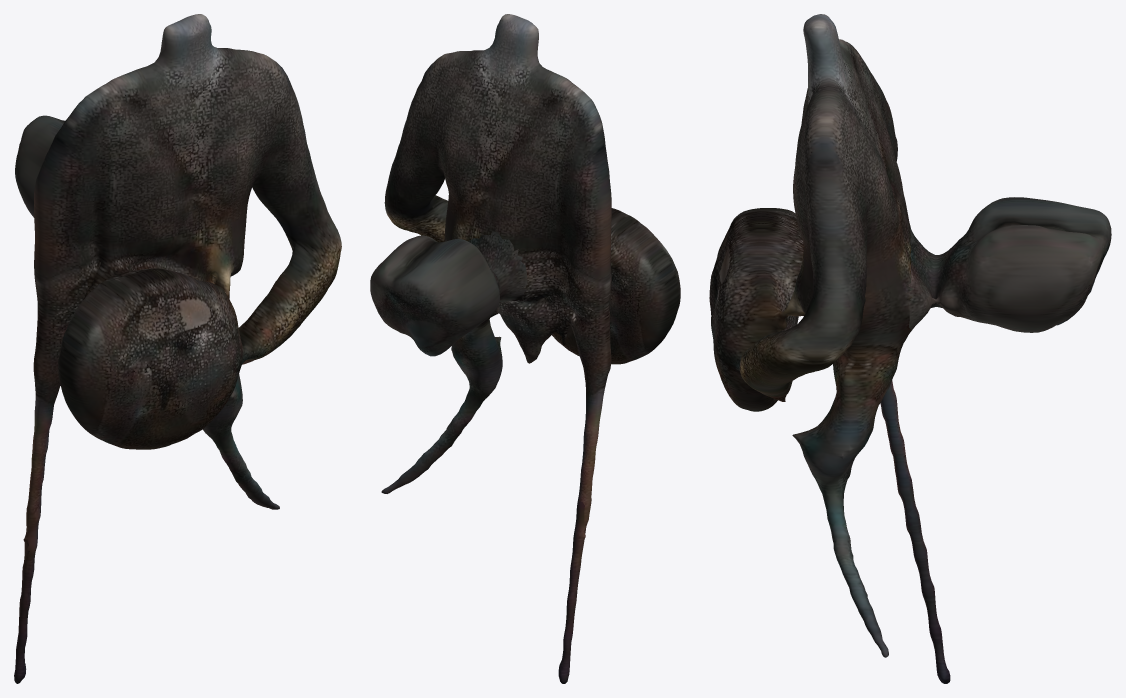
The model's file is kfl-2138.glb.
The picture shows the model from 3 angles, left to right: view 1: azimuth 30°, elevation 25°; view 2: azimuth 150°, elevation 25°; view 3: azimuth 270°, elevation 25°; orthographic projection. The views are drawn at different scales.
Parts seen in each view (by area): view 1: geometry_0; view 2: geometry_0; view 3: geometry_0.
Part boxes in pixels (box(x1,y1,x2,y2)): geometry_0: box(14, 14, 341, 683); geometry_0: box(370, 14, 680, 683); geometry_0: box(709, 14, 1111, 683).
Bounding box in the file's own units: 0.4437 × 0.9848 × 0.495.
Materials: 1 (1 with a texture image).
